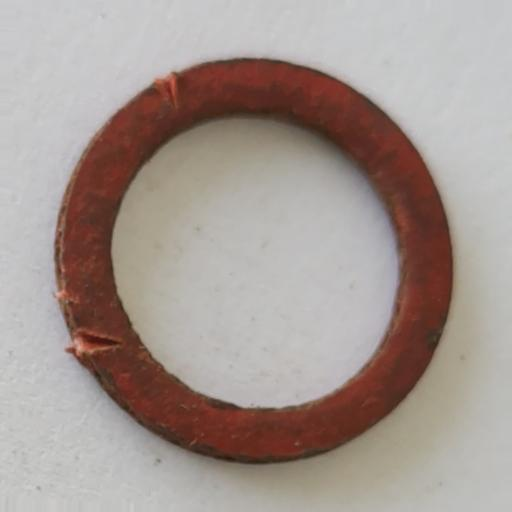defect: (63, 328, 121, 359), (156, 74, 182, 109)
